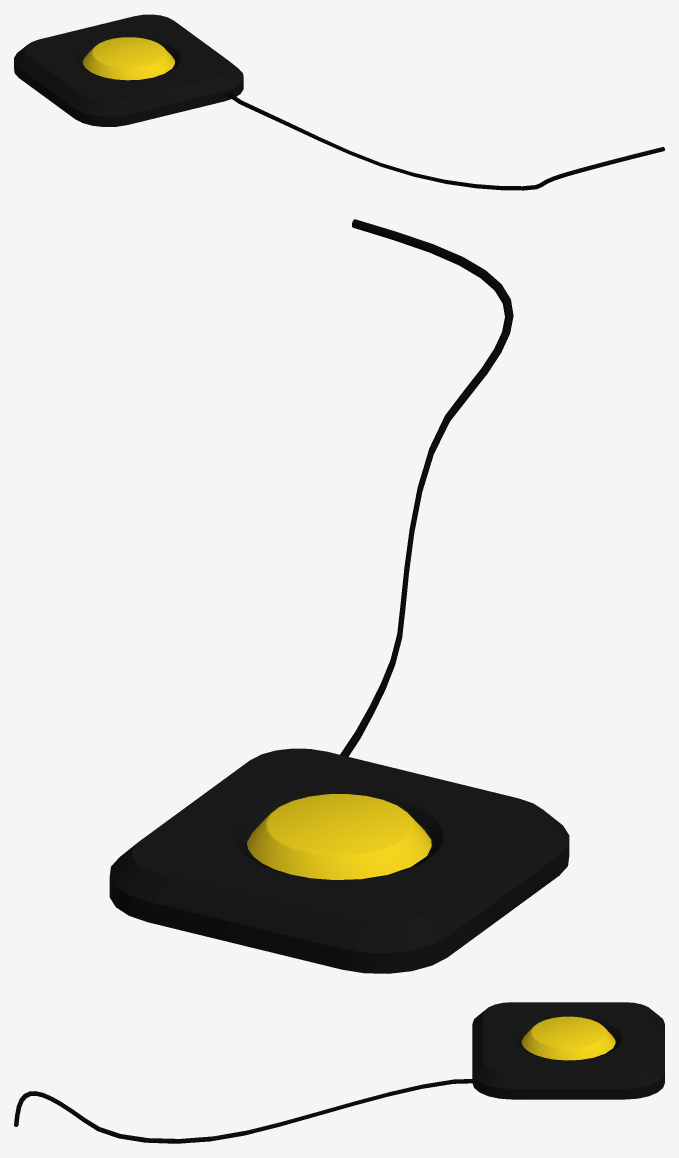
The model's file is doorBtn.fbx.
3 renders of one model, top to bottom at view 1: azimuth 30°, elevation 25°; view 2: azimuth 150°, elevation 25°; view 3: azimuth 270°, elevation 25°, orthographic. The views are drawn at different scales.
Visible parts, largest first — view 1: DoorBtnBase, DoorBtn, BezierCurve; view 2: DoorBtnBase, DoorBtn, BezierCurve; view 3: DoorBtnBase, DoorBtn, BezierCurve.
Part boxes in pixels (x1,y1,x2,y2): DoorBtnBase: [14, 14, 243, 126]; DoorBtn: [82, 37, 174, 80]; BezierCurve: [227, 92, 664, 190]; DoorBtnBase: [109, 748, 569, 973]; DoorBtn: [247, 794, 431, 879]; BezierCurve: [340, 219, 513, 756]; DoorBtnBase: [472, 1002, 664, 1099]; DoorBtn: [521, 1016, 615, 1060]; BezierCurve: [14, 1079, 473, 1143].
Bounding box in the file's own units: 173 × 37.7 × 277.
